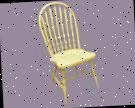Silla: (37, 0, 101, 106)
